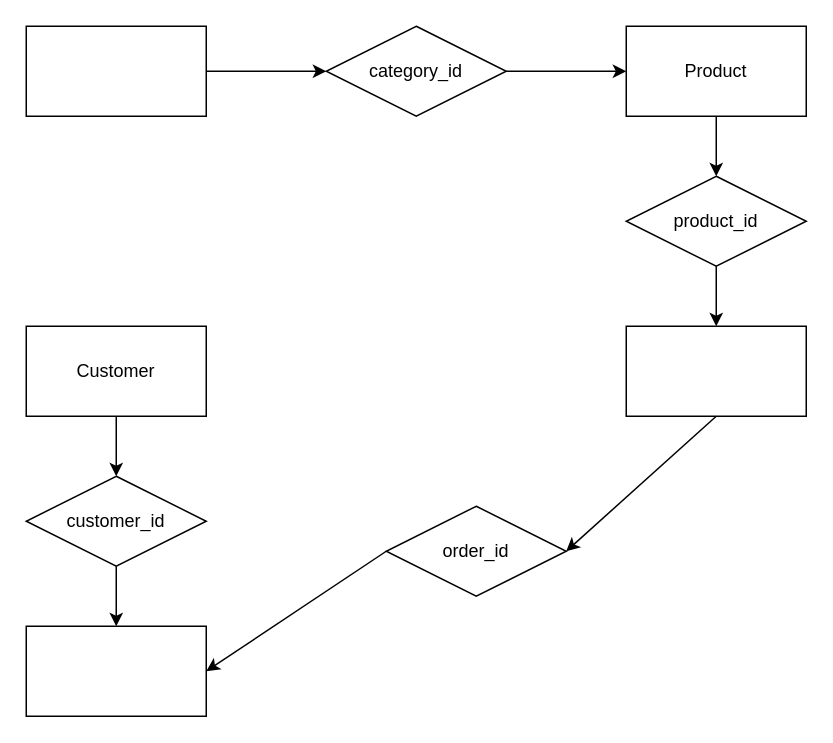
Image size: 833x743. Some labels were removed from this diagram. Each missing label, with the centre of its shape:
Category: the point at 115,70
Order: the point at 115,670
Order_Item: the point at 715,370
